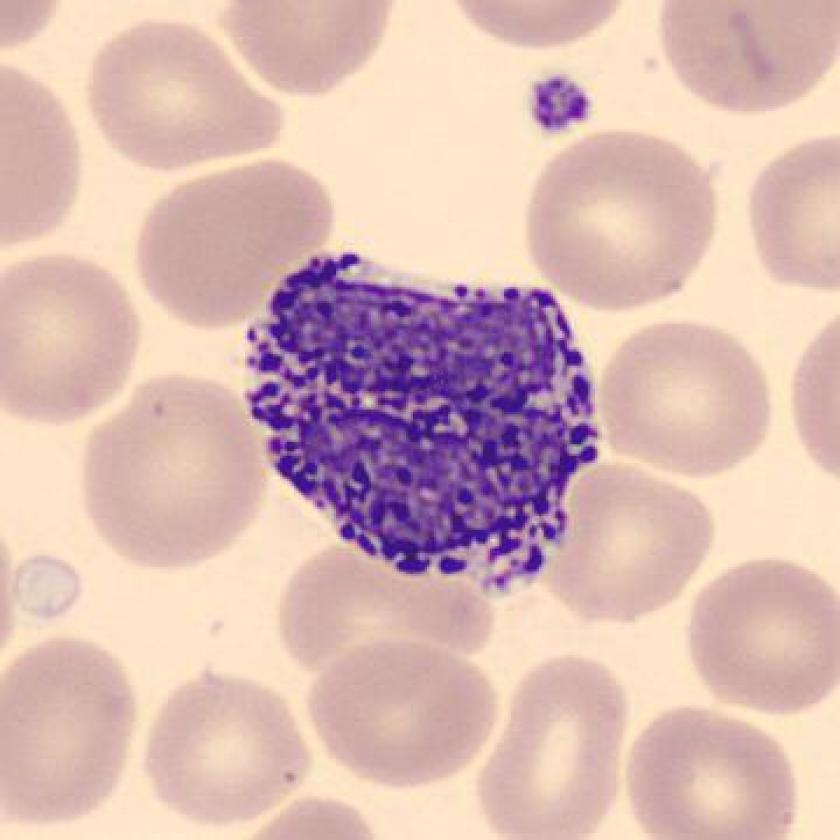basophil: (244, 235, 598, 584)
